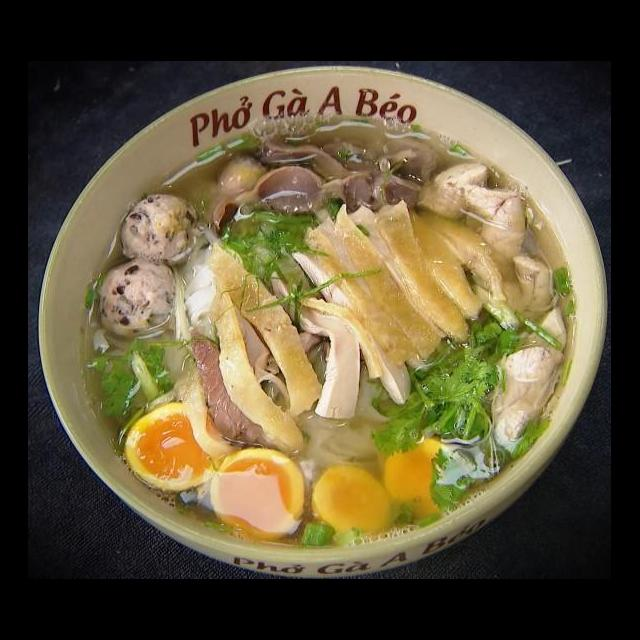banh pho: (252, 342, 404, 481), (142, 218, 250, 352)
pho ga: (32, 121, 611, 579)
thit ga: (166, 288, 310, 468), (298, 200, 452, 365), (288, 246, 431, 410), (205, 238, 326, 421), (268, 262, 388, 425), (344, 193, 474, 343), (484, 301, 572, 462), (402, 201, 509, 326)
trung: (121, 398, 228, 499), (208, 444, 308, 542), (308, 461, 398, 548), (379, 434, 464, 521)
vien moc: (116, 189, 210, 271), (96, 254, 180, 338)
